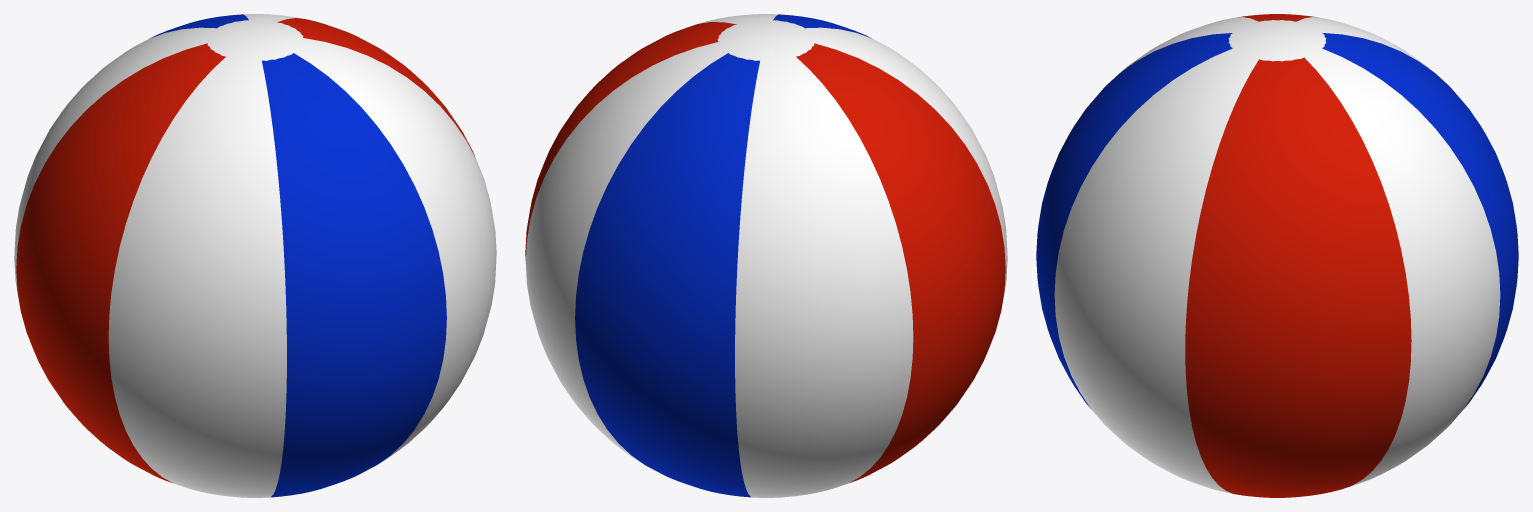
File: beachball.fbx
3 views of the same model, side by side, from view 1: azimuth 30°, elevation 25°; view 2: azimuth 150°, elevation 25°; view 3: azimuth 270°, elevation 25° (orthographic).
Parts seen in each view (by area): view 1: Sphere; view 2: Sphere; view 3: Sphere.
Part boxes in pixels (bbox=[...]): Sphere: bbox=[14, 14, 496, 497]; Sphere: bbox=[525, 14, 1007, 497]; Sphere: bbox=[1036, 14, 1518, 497].
Bounding box in the file's own units: 1.98 × 2 × 1.98.
